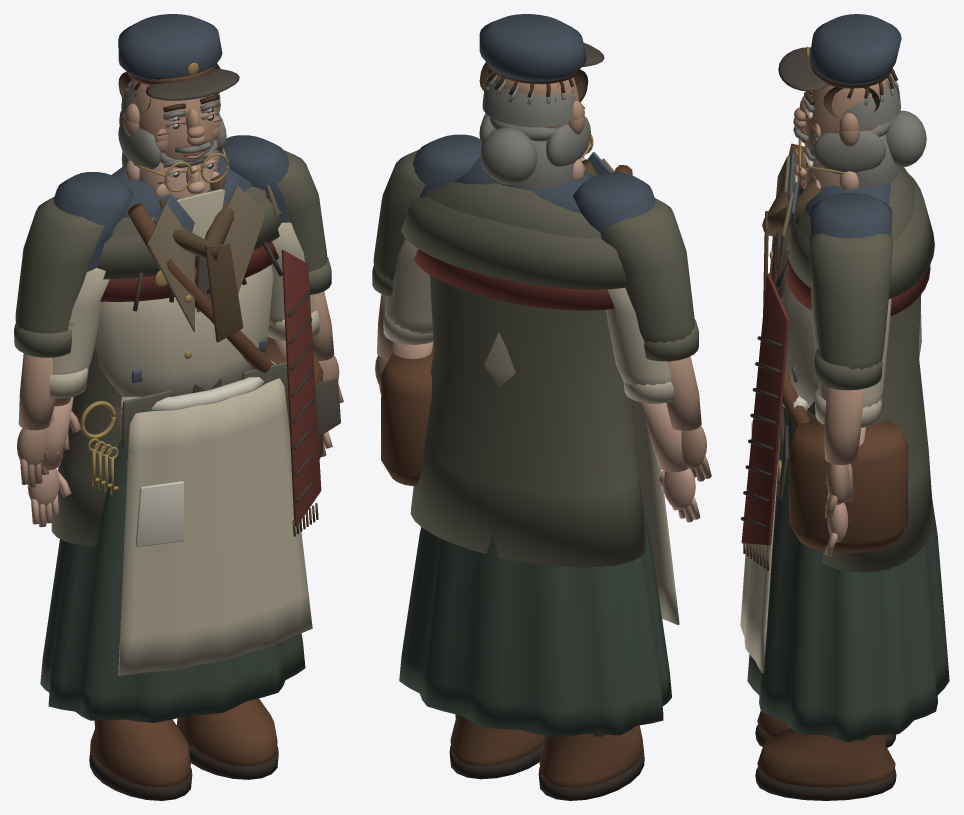
The model's file is companions-v1.glb.
3 renders of one model, left to right at view 1: azimuth 30°, elevation 25°; view 2: azimuth 150°, elevation 25°; view 3: azimuth 270°, elevation 25°, orthographic. The views are drawn at different scales.
Parts seen in each view (by area): view 1: Molly_Geometry, Beck_Geometry, Beck_RightArm_Geometry, Milo_Head_Geometry, Milo_Geometry, Beck_RightLeg_Geometry, Molly_RightArm_Geometry, Beck_LeftLeg_Geometry, Beck_LeftArm_Geometry, Molly_Head_Geometry, Milo_RightArm_Geometry, Milo_LeftArm_Geometry (+2 smaller); view 2: Beck_Geometry, Molly_Geometry, Beck_RightArm_Geometry, Milo_Head_Geometry, Milo_Geometry, Molly_RightArm_Geometry, Molly_Head_Geometry, Beck_RightLeg_Geometry, Beck_LeftArm_Geometry, Beck_LeftLeg_Geometry, Molly_LeftArm_Geometry, Milo_RightArm_Geometry (+2 smaller); view 3: Molly_Geometry, Beck_Geometry, Beck_LeftArm_Geometry, Milo_Geometry, Milo_Head_Geometry, Beck_LeftLeg_Geometry, Molly_Head_Geometry, Milo_LeftArm_Geometry, Molly_LeftArm_Geometry, Beck_Head_Geometry, Beck_RightLeg_Geometry.
Part boxes in pixels (x1,y1,x2,y2): Molly_Geometry: (40, 241, 321, 722); Beck_Geometry: (51, 173, 288, 546); Beck_RightArm_Geometry: (14, 197, 104, 487); Milo_Head_Geometry: (118, 14, 239, 148); Milo_Geometry: (112, 156, 340, 458); Beck_RightLeg_Geometry: (89, 406, 192, 800); Molly_RightArm_Geometry: (27, 267, 109, 527); Beck_LeftLeg_Geometry: (176, 698, 278, 779); Beck_LeftArm_Geometry: (277, 150, 343, 403); Molly_Head_Geometry: (118, 109, 228, 198); Milo_RightArm_Geometry: (43, 172, 133, 462); Milo_LeftArm_Geometry: (220, 135, 289, 222); Beck_Geometry: (401, 158, 645, 567); Molly_Geometry: (399, 249, 679, 737); Beck_RightArm_Geometry: (602, 198, 711, 481); Milo_Head_Geometry: (479, 14, 604, 121); Milo_Geometry: (381, 152, 632, 486); Molly_RightArm_Geometry: (605, 287, 700, 522); Molly_Head_Geometry: (479, 113, 593, 189); Beck_RightLeg_Geometry: (538, 725, 644, 800); Beck_LeftArm_Geometry: (372, 150, 425, 394); Beck_LeftLeg_Geometry: (449, 714, 544, 779); Molly_LeftArm_Geometry: (383, 239, 433, 358); Milo_RightArm_Geometry: (573, 172, 655, 244); Molly_Geometry: (740, 250, 949, 742); Beck_Geometry: (762, 156, 934, 572); Beck_LeftArm_Geometry: (809, 233, 892, 518); Milo_Geometry: (772, 143, 908, 553); Milo_Head_Geometry: (778, 14, 901, 138); Beck_LeftLeg_Geometry: (755, 410, 896, 800); Molly_Head_Geometry: (794, 110, 926, 189); Milo_LeftArm_Geometry: (810, 192, 892, 483); Molly_LeftArm_Geometry: (810, 279, 891, 556); Beck_Head_Geometry: (793, 73, 901, 156); Beck_RightLeg_Geometry: (755, 711, 896, 747).
Size of the model in its own units: 0.8071 by 1.74 by 0.4513.
